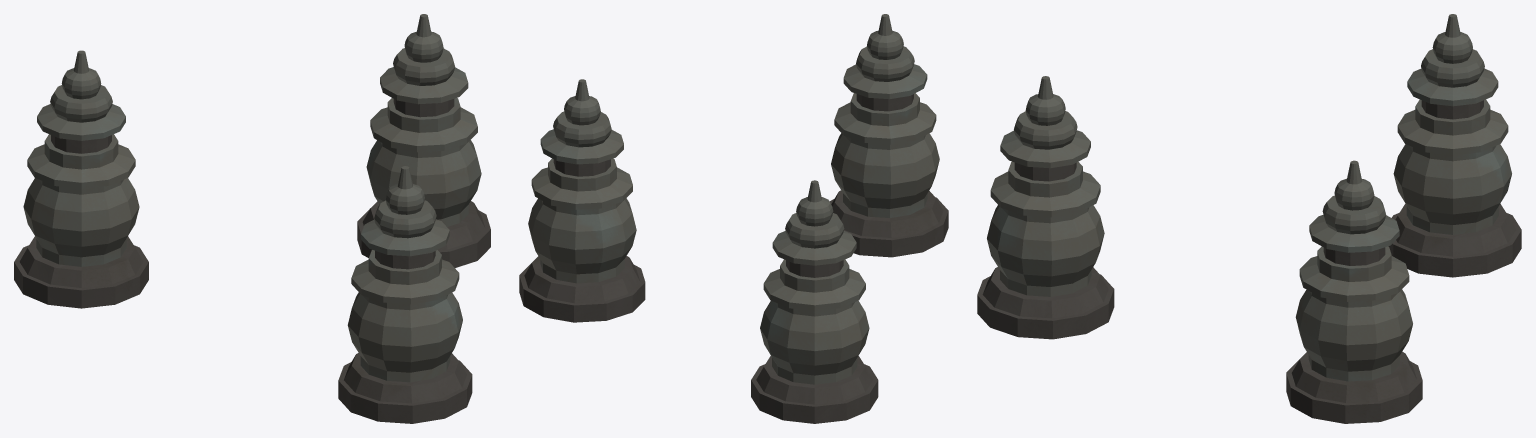
File: SanTanYinYue01.fbx
3 views of the same model, side by side, from view 1: azimuth 30°, elevation 25°; view 2: azimuth 150°, elevation 25°; view 3: azimuth 270°, elevation 25° (orthographic). The views are drawn at different scales.
Visible parts, largest first — view 1: Cylinder.002; view 2: Cylinder.002; view 3: Cylinder.002.
Boxes of the visible parts, bbox=[...] form: Cylinder.002: bbox=[14, 14, 490, 423]; Cylinder.002: bbox=[519, 14, 948, 423]; Cylinder.002: bbox=[977, 14, 1521, 423].
Bounding box in the file's own units: 703 × 373 × 791.
